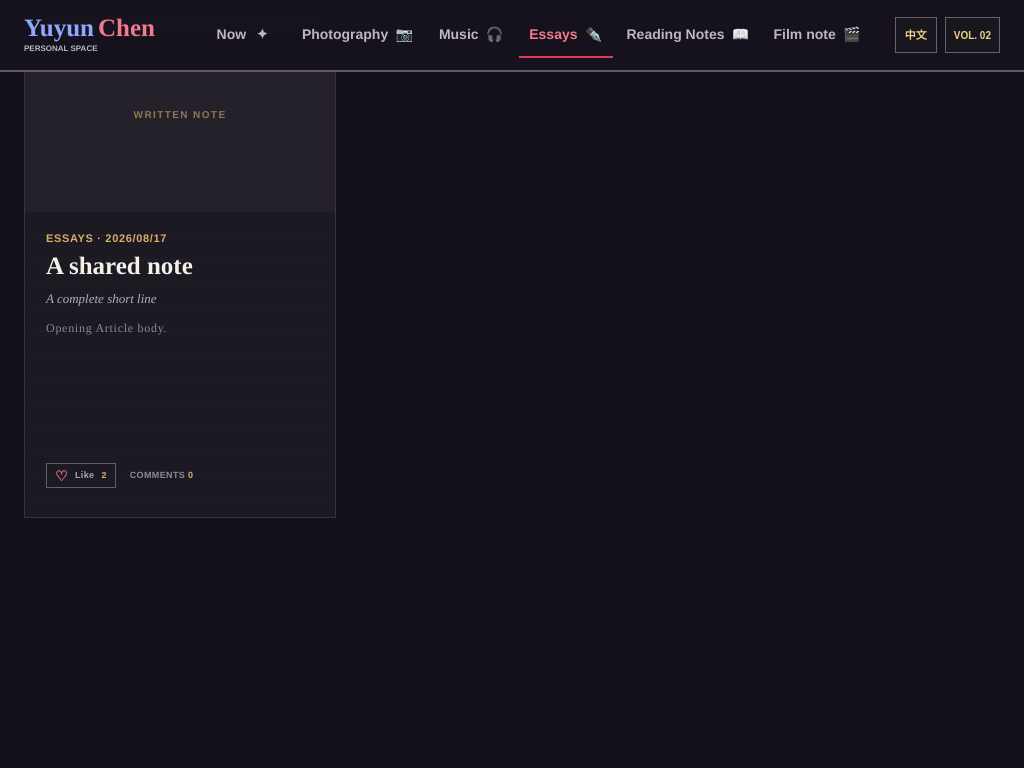
Test case: owner session restoration › lets an invited visitor like and comment on an article without duplicate submissions
(page scrolled)
Expected: the heading "A shared note" is shown, [46,253,193,280]
Click the button with aria-label "Like · 2".
click(81, 476)  # box [46,463,116,488]
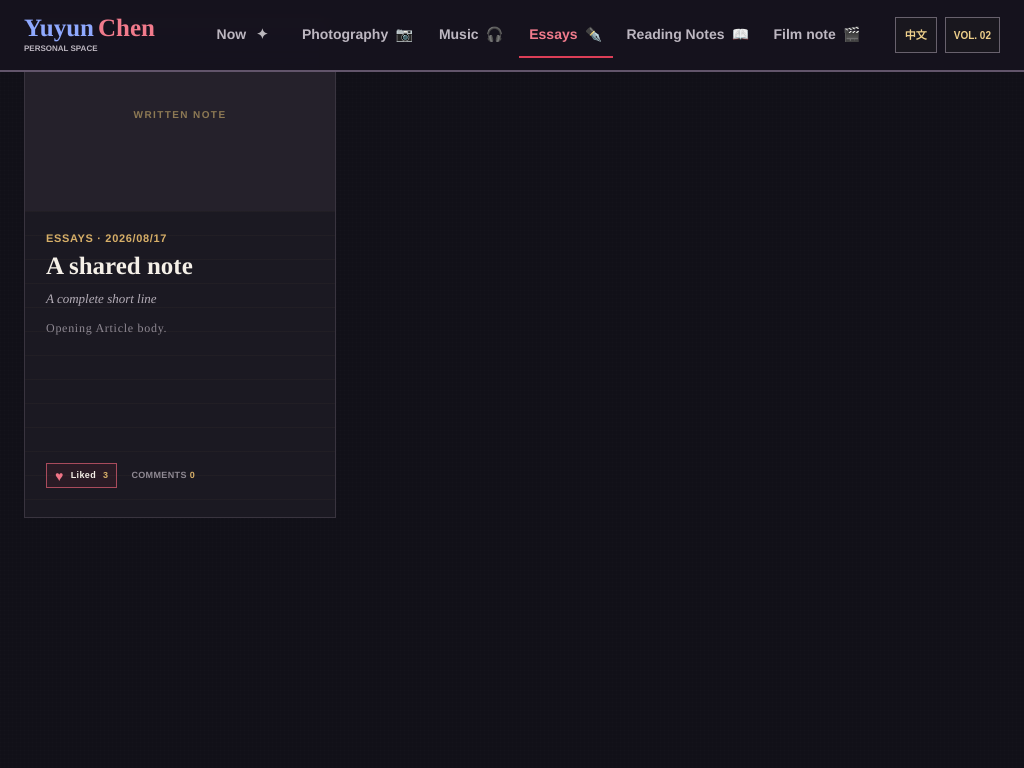
Result: the button with aria-label "Unlike · 3" shows "Liked" at [46,463,117,488]
Click the element with class "archive-entry".
click(180, 268)  # box [24,18,336,518]
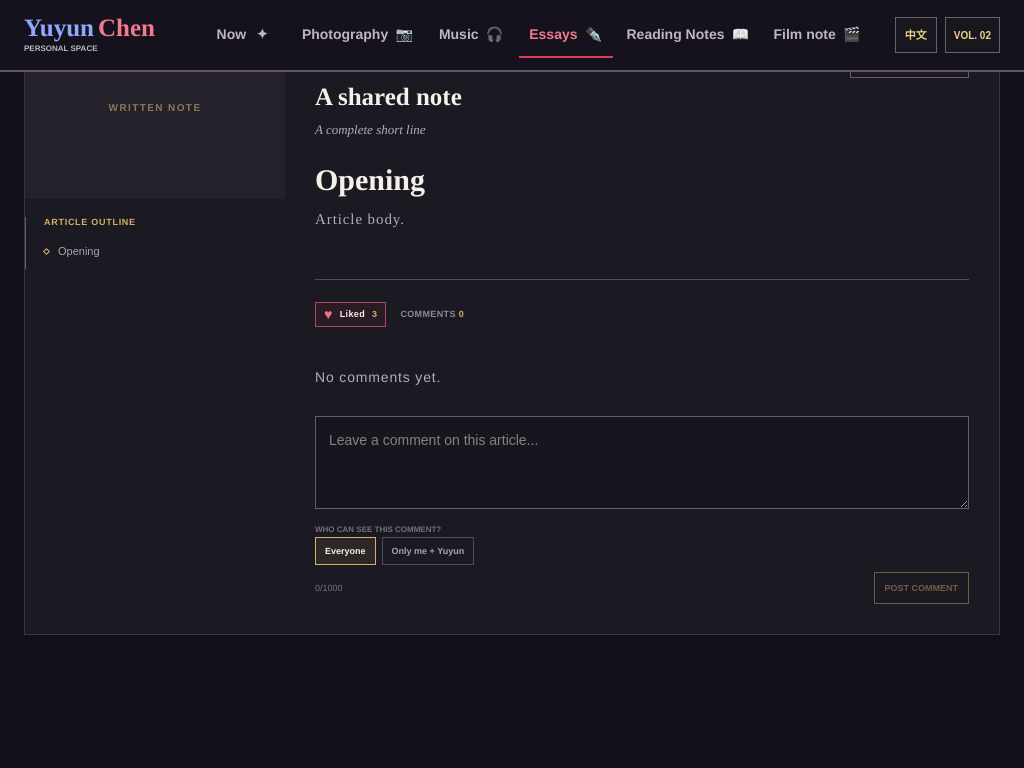
Click the radio button labelled "Only me + Yuyun".
click(428, 552)  # box [382,538,474,566]
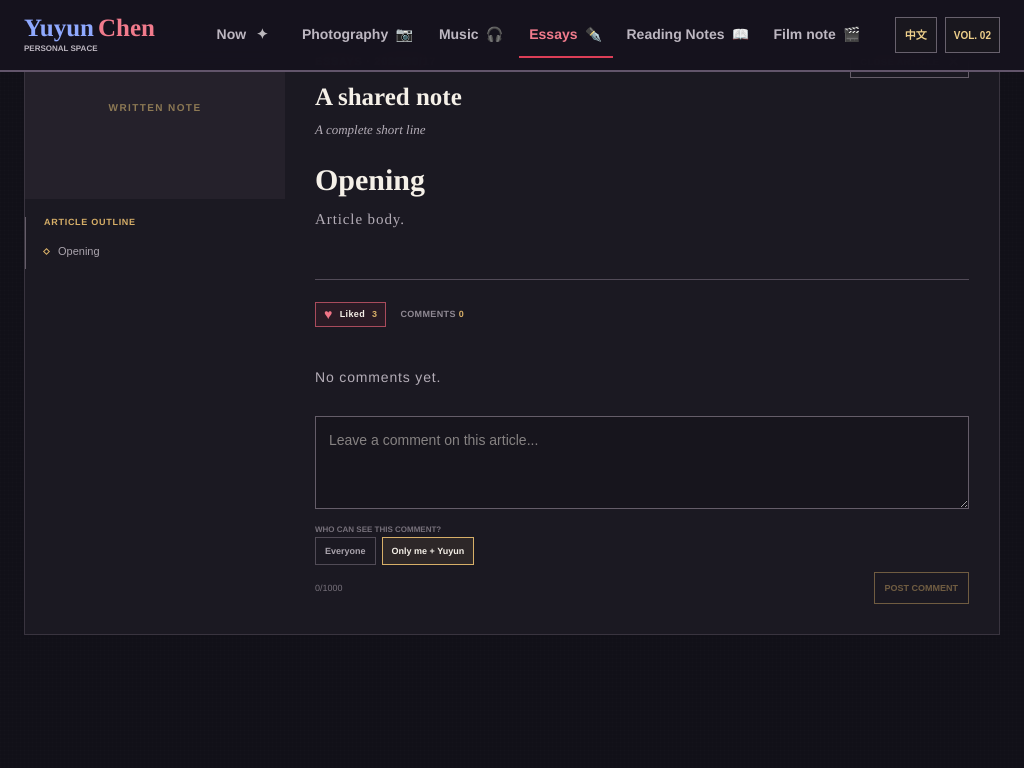
Type "I read this." into the text box with placeholder "Leave a comment on this article...".
click(642, 462); type("I read this.")  # box [315,416,969,509]
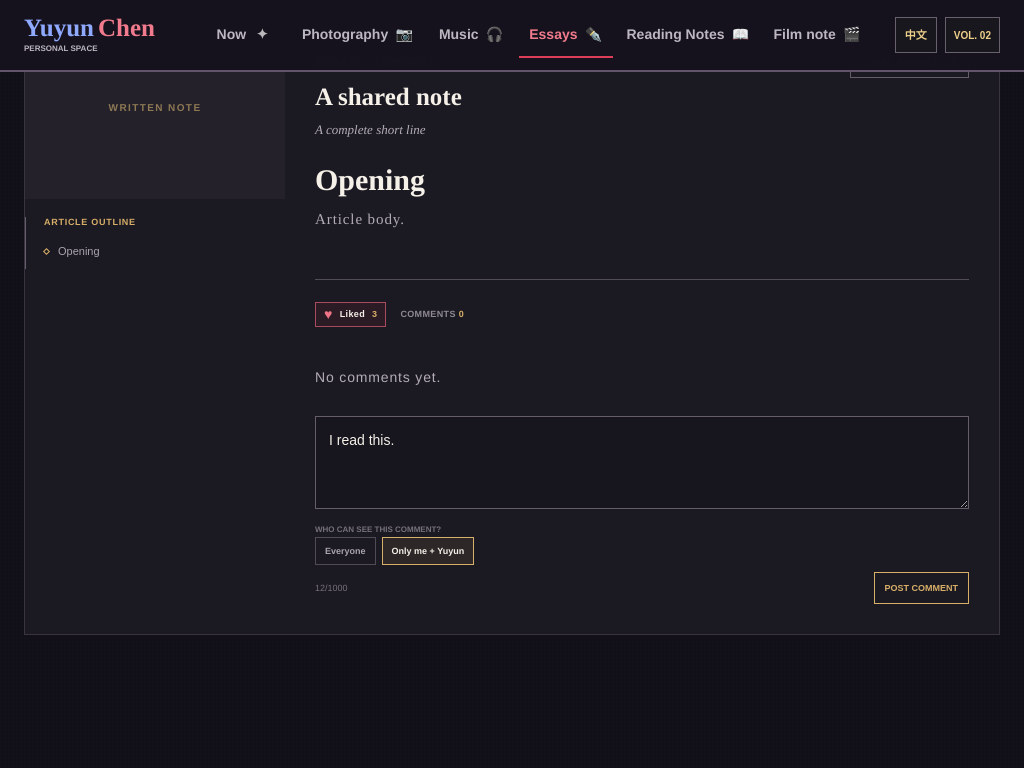
Click the button "Post comment".
click(921, 588)  # box [874,572,969,604]
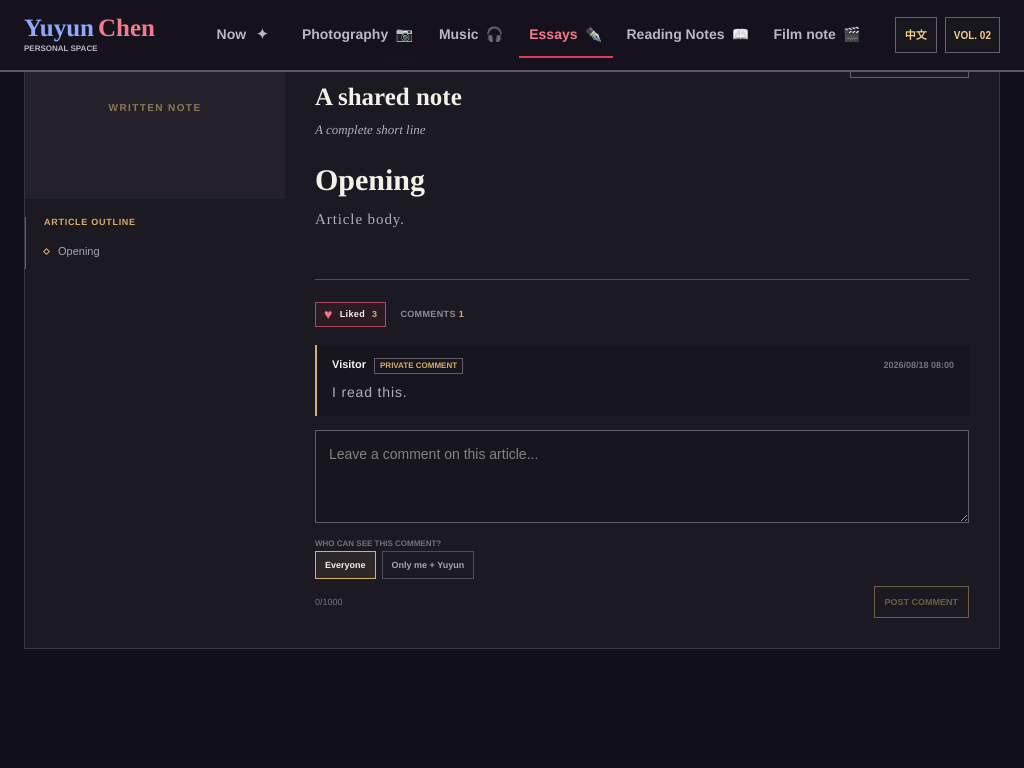
Result: the text box "I read this." is shown at [315,430,969,523]
Result: the text "Private comment" is shown at [374,358,463,374]
